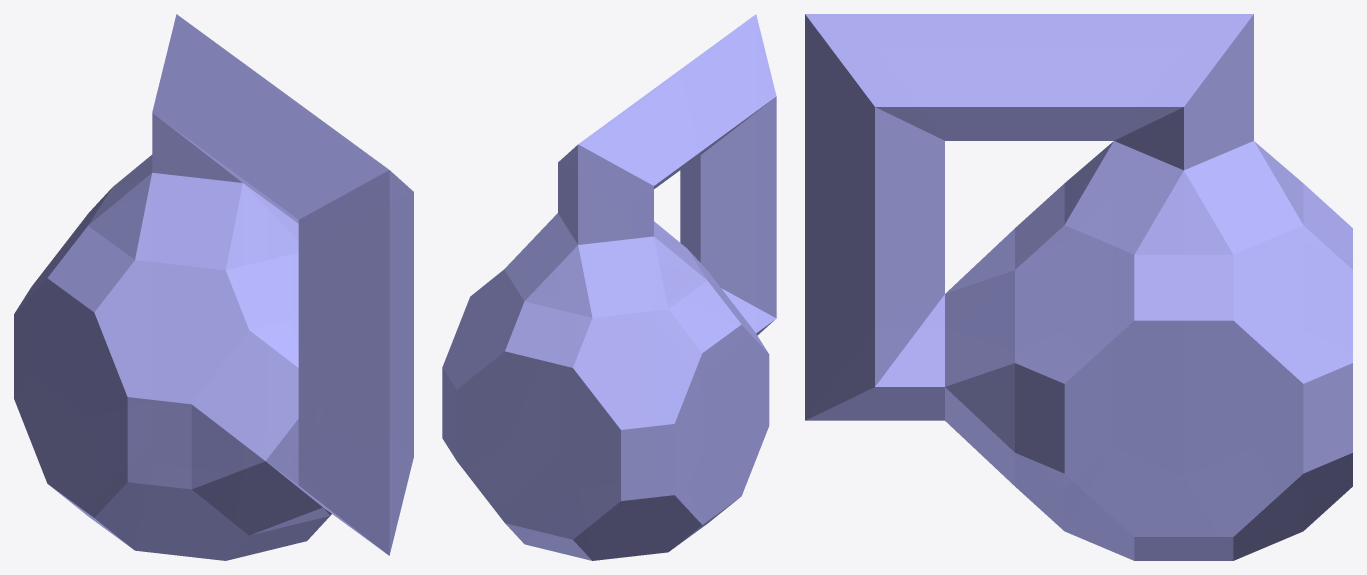
The model's file is TruncatedCuboctahedron2.obj.
3 renders of one model, left to right at view 1: azimuth 30°, elevation 25°; view 2: azimuth 150°, elevation 25°; view 3: azimuth 270°, elevation 25°, orthographic. The views are drawn at different scales.
Bounding box in the file's own units: 1.41 × 2.29 × 2.29.
